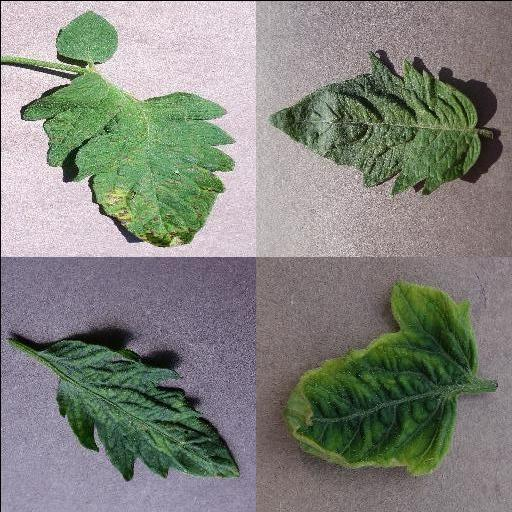Healthy: (54, 10, 116, 62)
Mosaic Virus: (37, 336, 240, 480)
Septoria: (20, 74, 235, 248)
Spider Mites: (267, 48, 481, 196)
Yellow Leaf Curl Virus: (286, 281, 480, 477)
